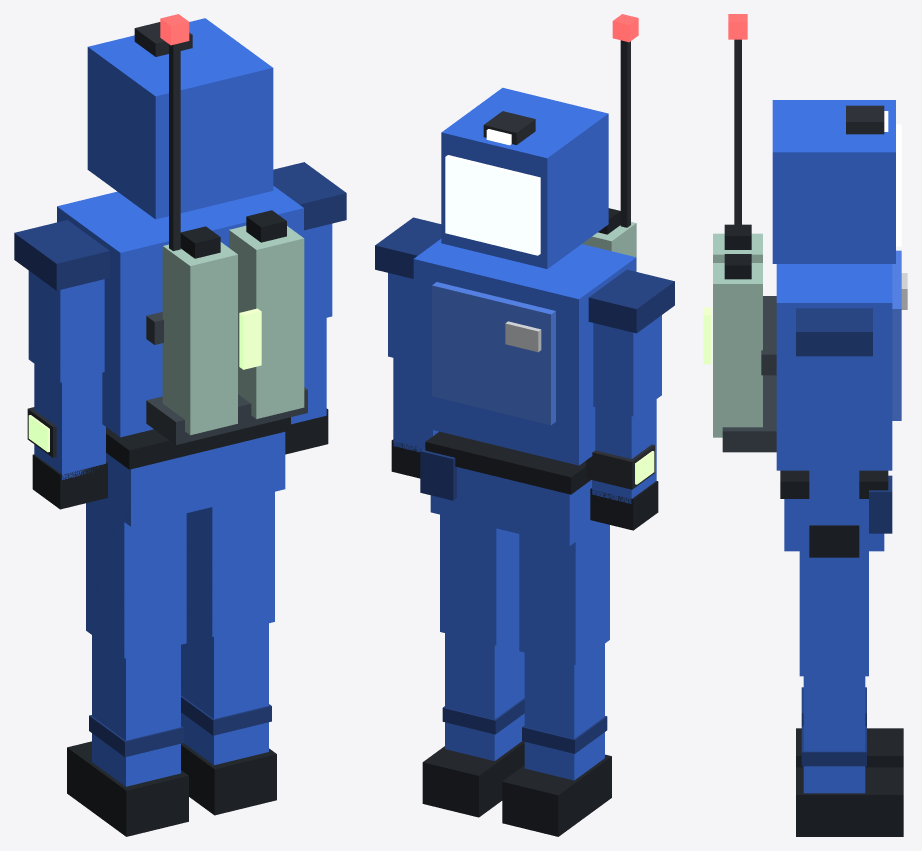
File: bio_tech_storm_blue.glb
3 renders of one model, left to right at view 1: azimuth 30°, elevation 25°; view 2: azimuth 150°, elevation 25°; view 3: azimuth 270°, elevation 25°, orthographic. The views are drawn at different scales.
Visible parts, largest first — view 1: Merged6, Merged, Merged7, Merged8, Merged9, _MeshInstance3D_2759, Merged3, _MeshInstance3D_2770, Merged2, Merged5, Merged4; view 2: Merged6, Merged, Merged7, Merged8, Merged9, _MeshInstance3D_2759, Merged3, _MeshInstance3D_2770, Merged2, Merged5, Merged4; view 3: Merged6, Merged, Merged8, Merged5, _MeshInstance3D_2770, Merged4, Merged9, Merged7.
Part boxes in pixels (box(x1,y1,x2,y2)): Merged6: box(57, 14, 307, 444); Merged: box(87, 18, 273, 219); Merged7: box(67, 635, 188, 836); Merged8: box(181, 618, 276, 815); Merged9: box(96, 417, 290, 526); _MeshInstance3D_2759: box(86, 501, 186, 658); Merged3: box(14, 220, 109, 382); _MeshInstance3D_2770: box(186, 492, 274, 636); Merged2: box(27, 364, 107, 509); Merged5: box(273, 162, 346, 322); Merged4: box(285, 318, 328, 454); Merged6: box(413, 14, 638, 465); Merged: box(441, 87, 608, 268); Merged7: box(502, 644, 611, 836); Merged8: box(422, 629, 524, 817); Merged9: box(420, 431, 600, 545); _MeshInstance3D_2759: box(519, 523, 609, 664); Merged3: box(588, 269, 674, 416); _MeshInstance3D_2770: box(440, 514, 519, 645); Merged2: box(586, 399, 658, 530); Merged5: box(375, 217, 441, 362); Merged4: box(391, 358, 438, 478); Merged6: box(703, 14, 907, 470); Merged: box(772, 100, 901, 263); Merged8: box(796, 676, 903, 836); Merged5: box(796, 308, 872, 441); _MeshInstance3D_2770: box(799, 551, 868, 676); Merged4: box(809, 441, 859, 557); Merged9: box(780, 470, 892, 551); Merged7: box(796, 687, 903, 767).
Bounding box in the file's own units: 0.79 × 2.18 × 0.53.
